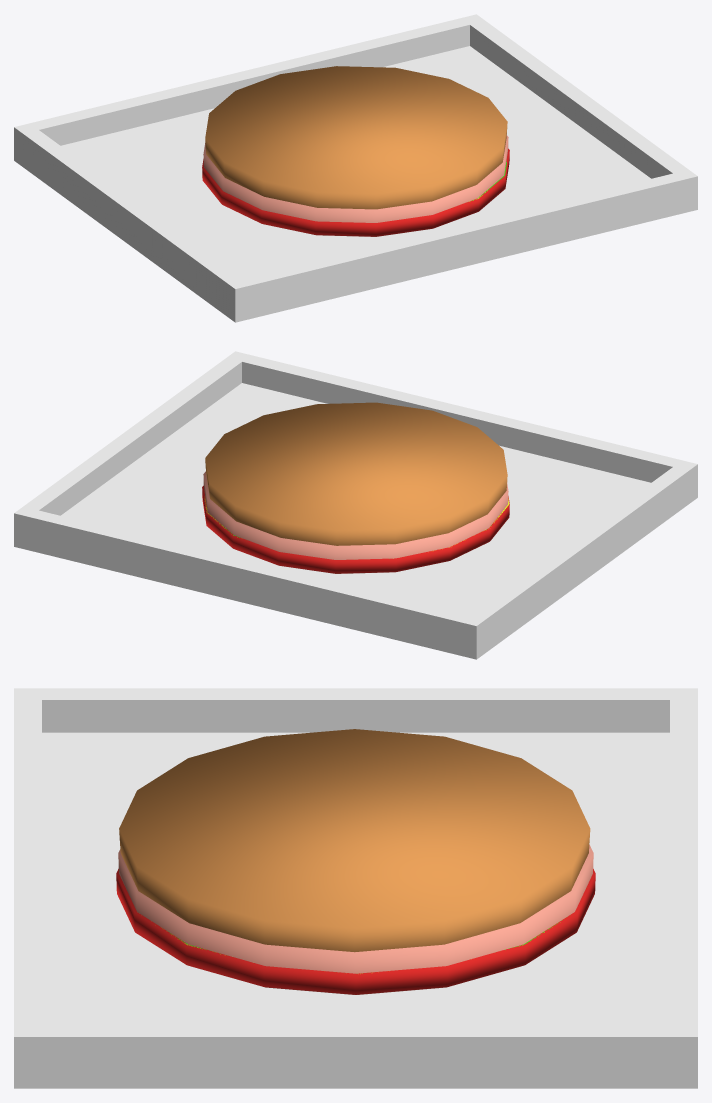
The model's file is burger_test2.glb.
3 renders of one model, top to bottom at view 1: azimuth 30°, elevation 25°; view 2: azimuth 150°, elevation 25°; view 3: azimuth 270°, elevation 25°, orthographic. The views are drawn at different scales.
Visible parts, largest first — view 1: tray, bottom_bun, patty, tomato; view 2: tray, bottom_bun, patty, tomato; view 3: tray, bottom_bun, patty, tomato.
Boxes of the visible parts, <box> form: tray: <box>14,14,697,322</box>; bottom_bun: <box>205,66,507,209</box>; patty: <box>203,135,508,236</box>; tomato: <box>202,148,509,236</box>; tray: <box>14,351,697,659</box>; bottom_bun: <box>205,402,507,545</box>; patty: <box>203,471,508,573</box>; tomato: <box>202,485,509,573</box>; tray: <box>14,688,697,1088</box>; bottom_bun: <box>119,729,590,952</box>; patty: <box>118,844,593,994</box>; tomato: <box>116,869,595,994</box>.
Size of the model in its own units: 1.09 by 0.1802 by 0.9015.
